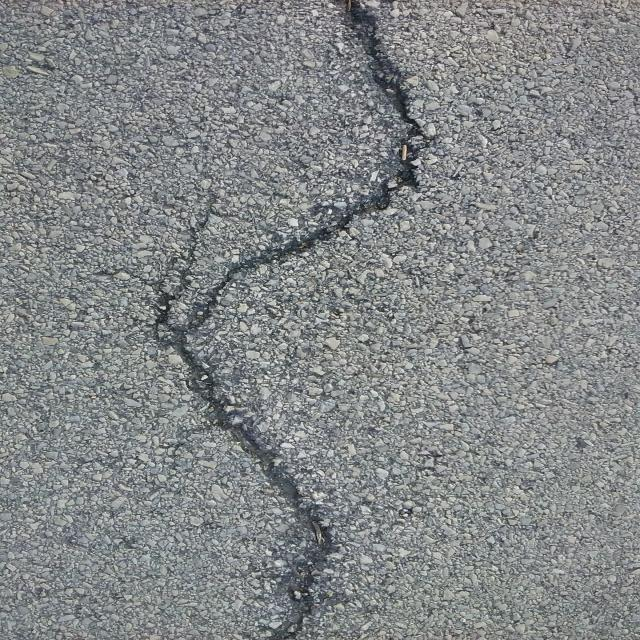Longitudial: (126, 0, 442, 640)
